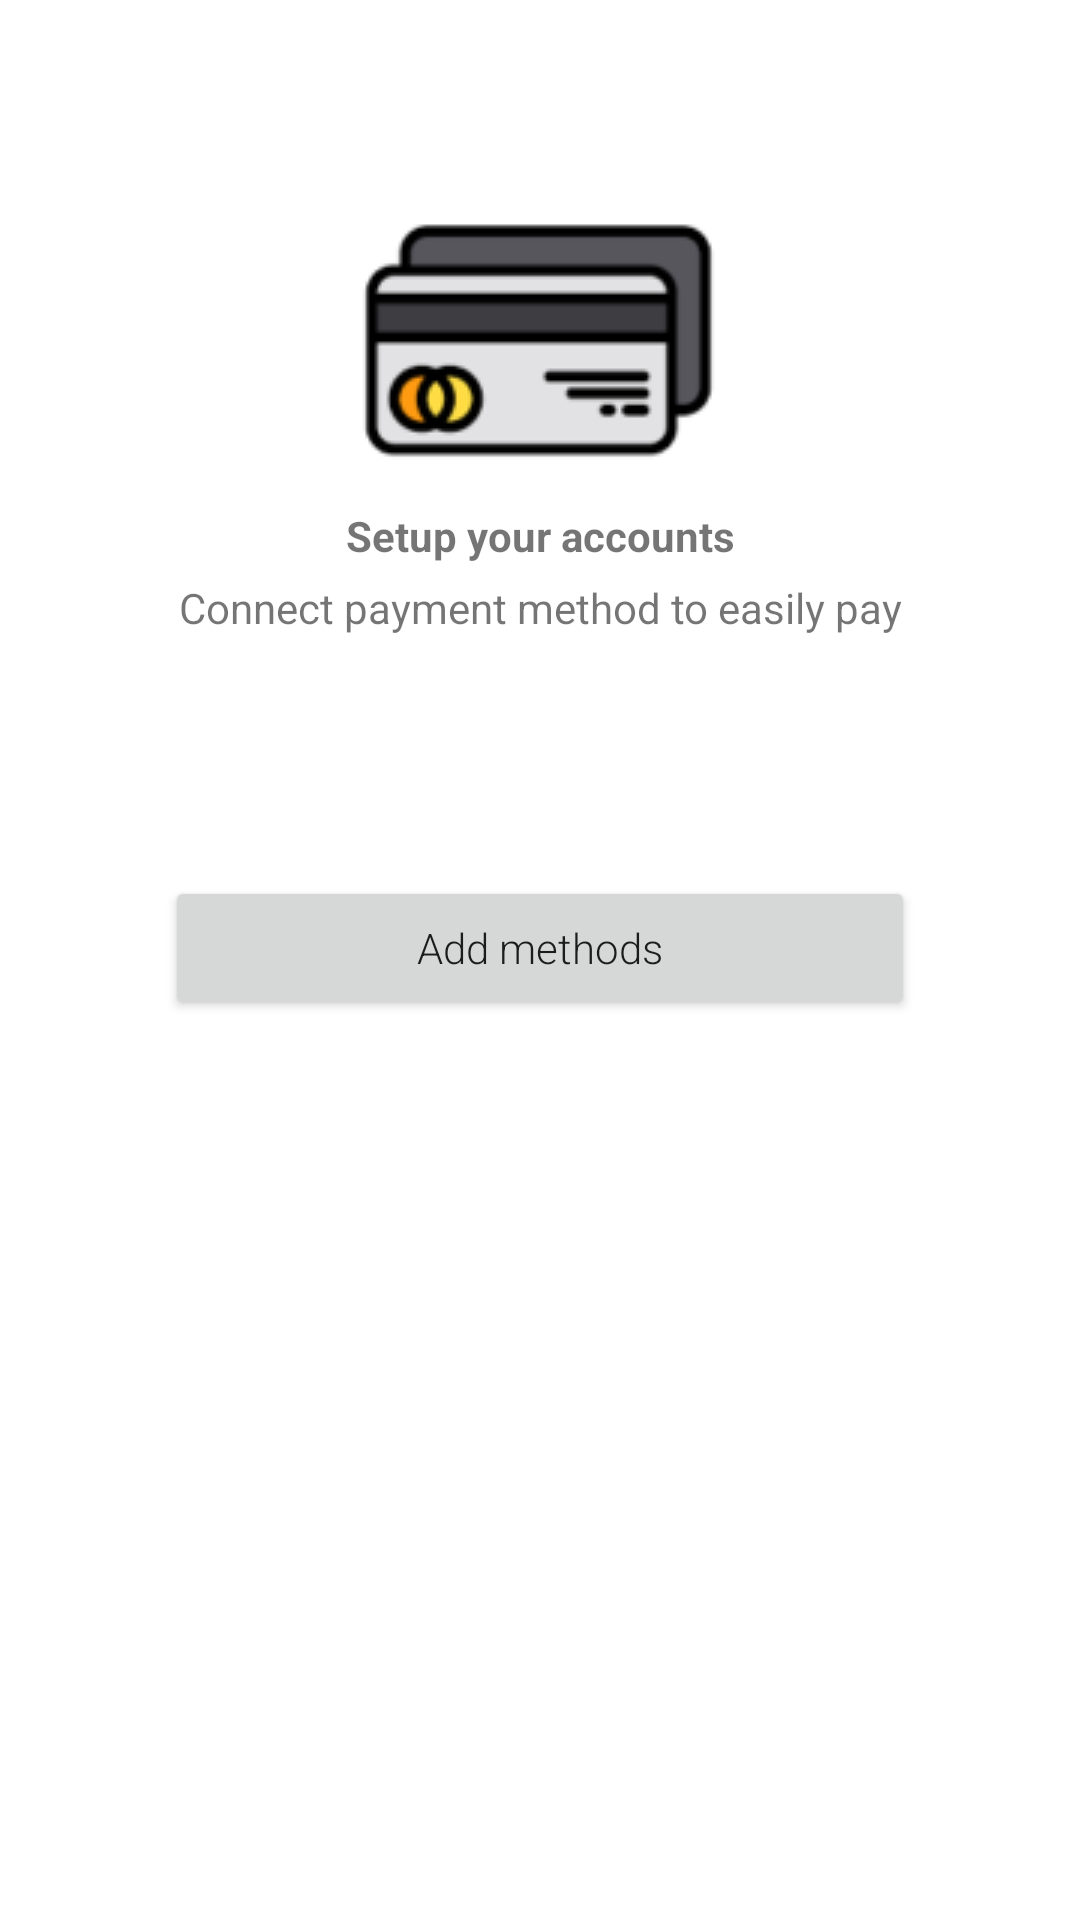

Icons on this 1080x1920 Android screen, each with the point to tap as point (x, y):
card: point (538, 340)
